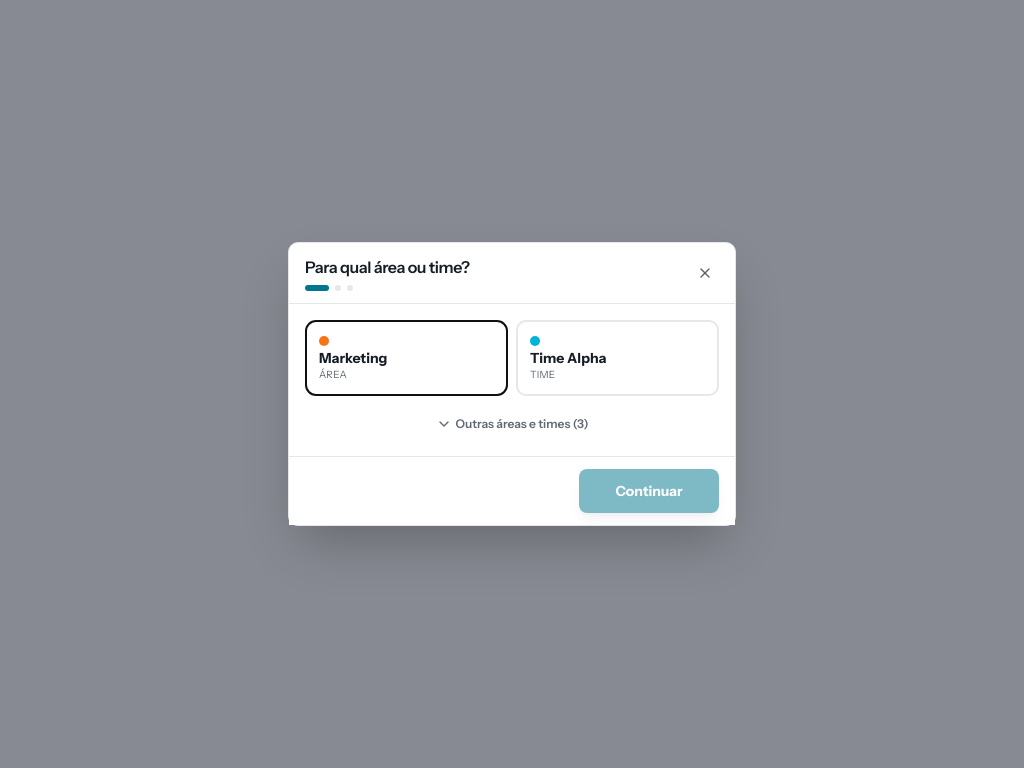
Test case: enviar uma demanda para si › dá para escolher uma área escondida
The width and height of the screenshot is (1024, 768).
Step 1. Click the button "Outras áreas e times (3)" → (512, 424), box [305, 408, 719, 440]
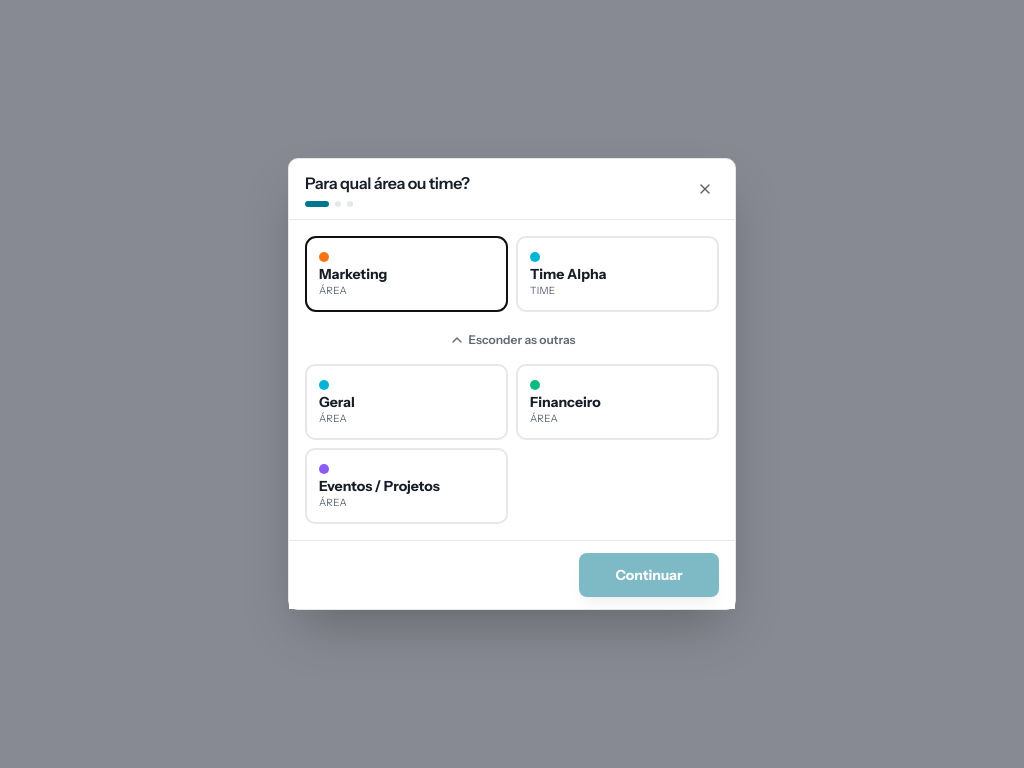
Step 2. Click the button "Financeiro Área" → (618, 402), box [516, 364, 719, 440]
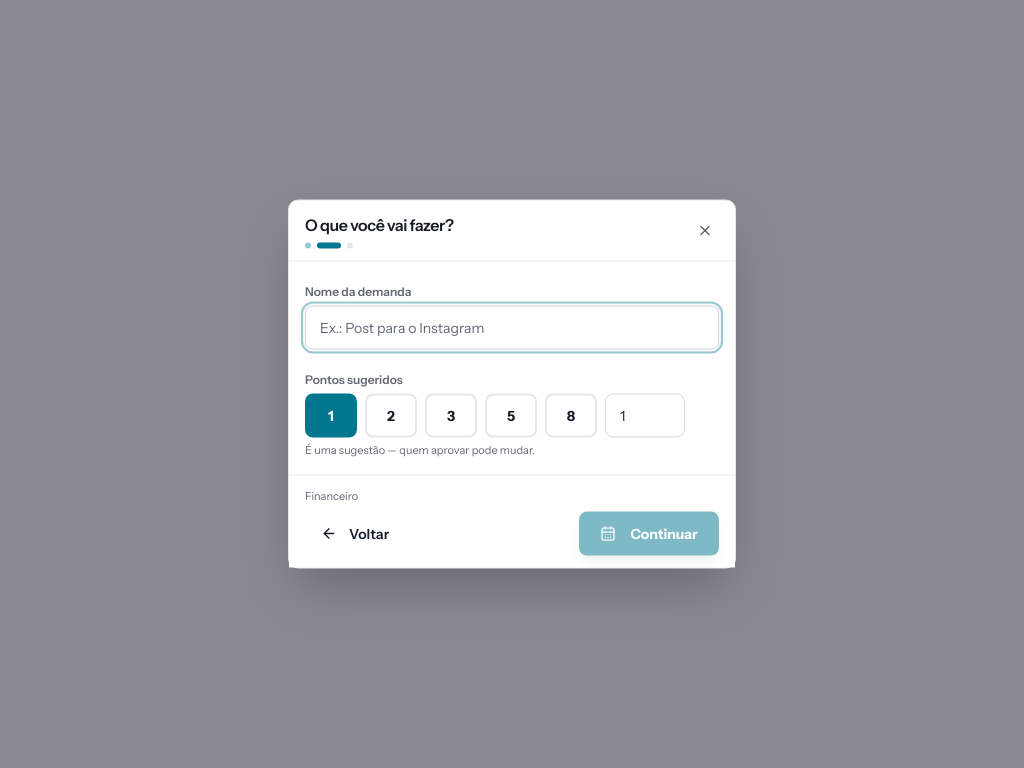
Now the heading "O que você vai fazer?" is shown, box [305, 214, 454, 234]
